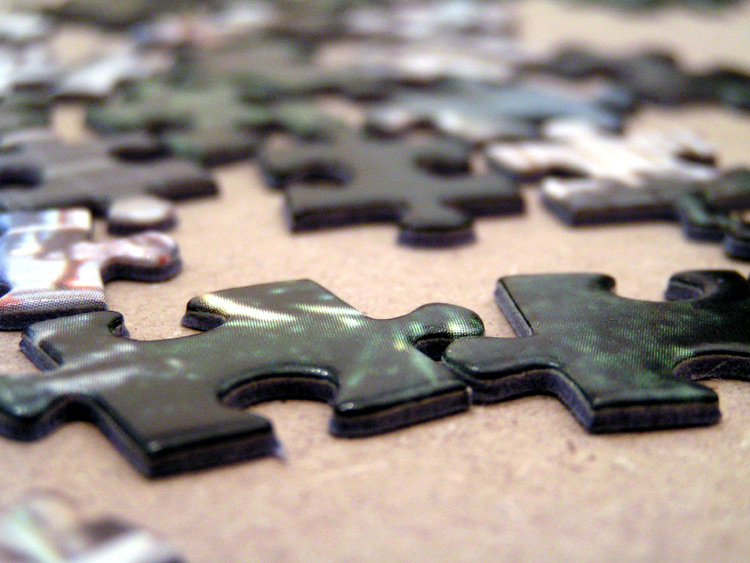puzzle piece: (1, 285, 505, 486), (446, 244, 750, 454), (243, 101, 544, 259)
